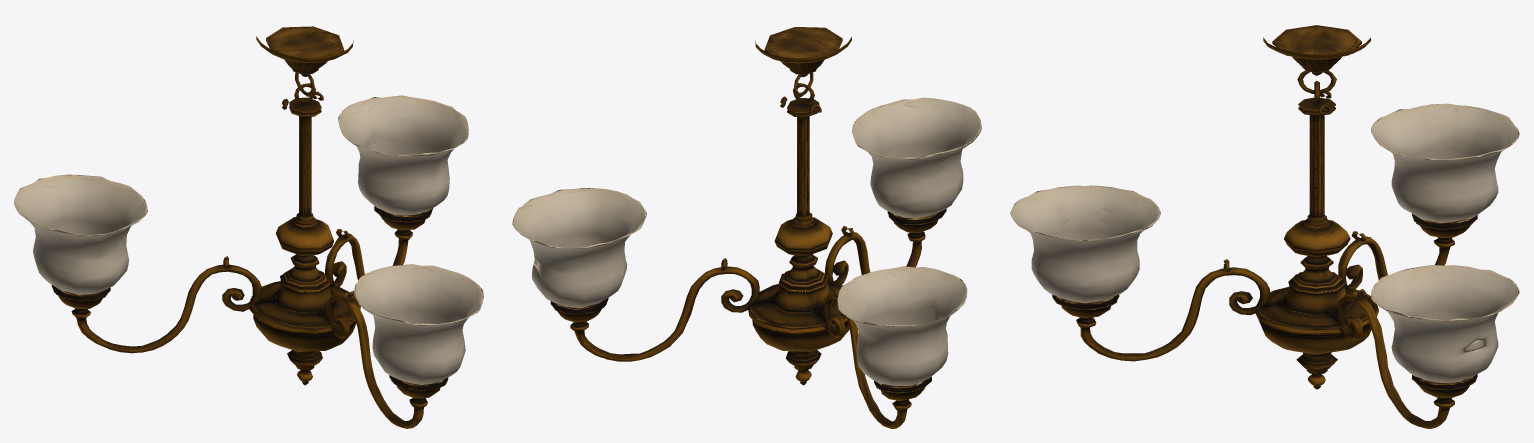
The model's file is lighting-chandelier-three-arm.glb.
3 views of the same model, side by side, from view 1: azimuth 30°, elevation 25°; view 2: azimuth 150°, elevation 25°; view 3: azimuth 270°, elevation 25° (orthographic).
Visible parts, largest first — view 1: tripo_node_abf25cc8-c0fc-494f-b7dd-390c79a8d0b6; view 2: tripo_node_abf25cc8-c0fc-494f-b7dd-390c79a8d0b6; view 3: tripo_node_abf25cc8-c0fc-494f-b7dd-390c79a8d0b6.
Boxes of the visible parts, x1,y1,x2,y2 form: tripo_node_abf25cc8-c0fc-494f-b7dd-390c79a8d0b6: (14,26,483,428); tripo_node_abf25cc8-c0fc-494f-b7dd-390c79a8d0b6: (512,27,981,428); tripo_node_abf25cc8-c0fc-494f-b7dd-390c79a8d0b6: (1010,25,1519,428).
Bounding box in the file's own units: 0.65 × 0.5 × 0.65.
Materials: 1 (1 with a texture image).
